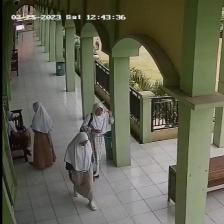HijabSyar-i: (62, 132, 98, 175), (30, 100, 61, 135), (83, 104, 114, 136)
